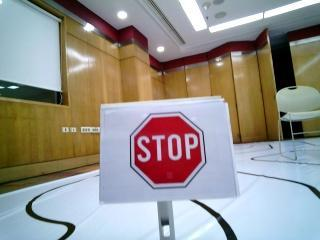stop: (103, 105, 231, 193)
